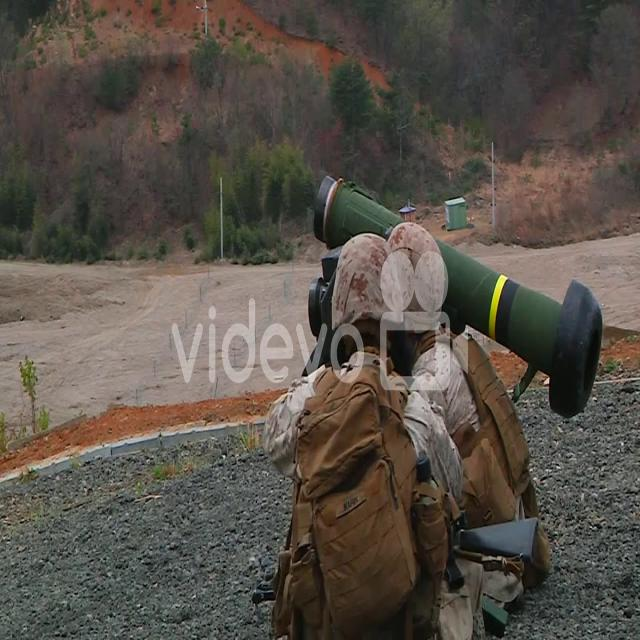bazooka: (307, 164, 608, 436)
